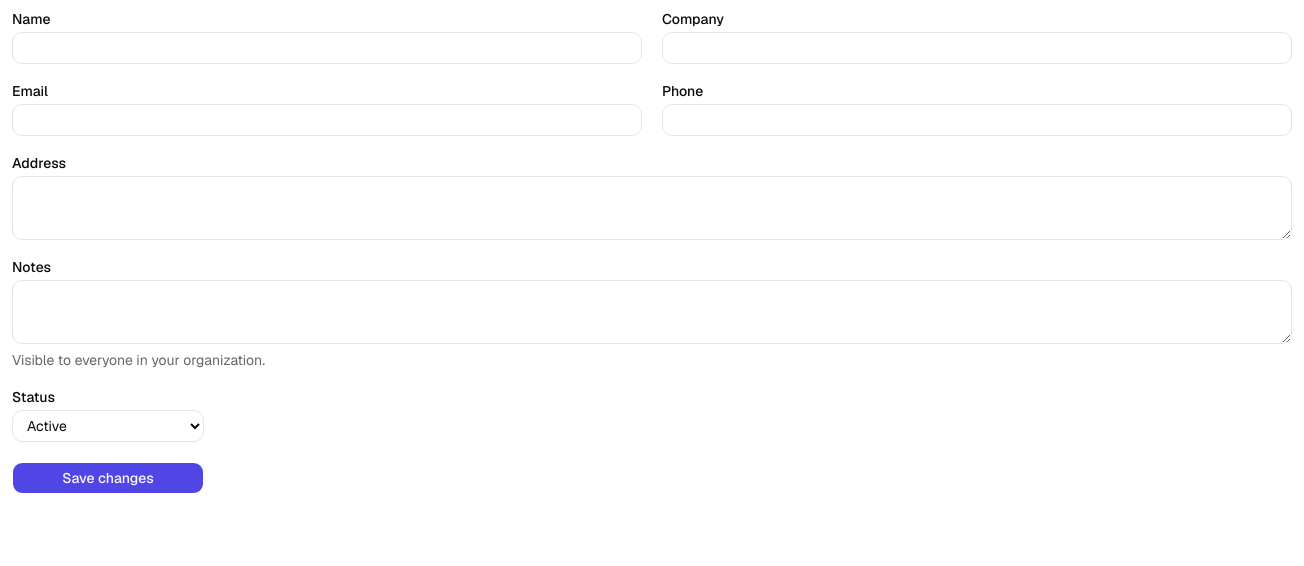
Scenario: ClientForm › shows other errors at the top of the form
The width and height of the screenshot is (1304, 566).
Click the button "Save changes" at (108, 478), box [12, 462, 204, 494]
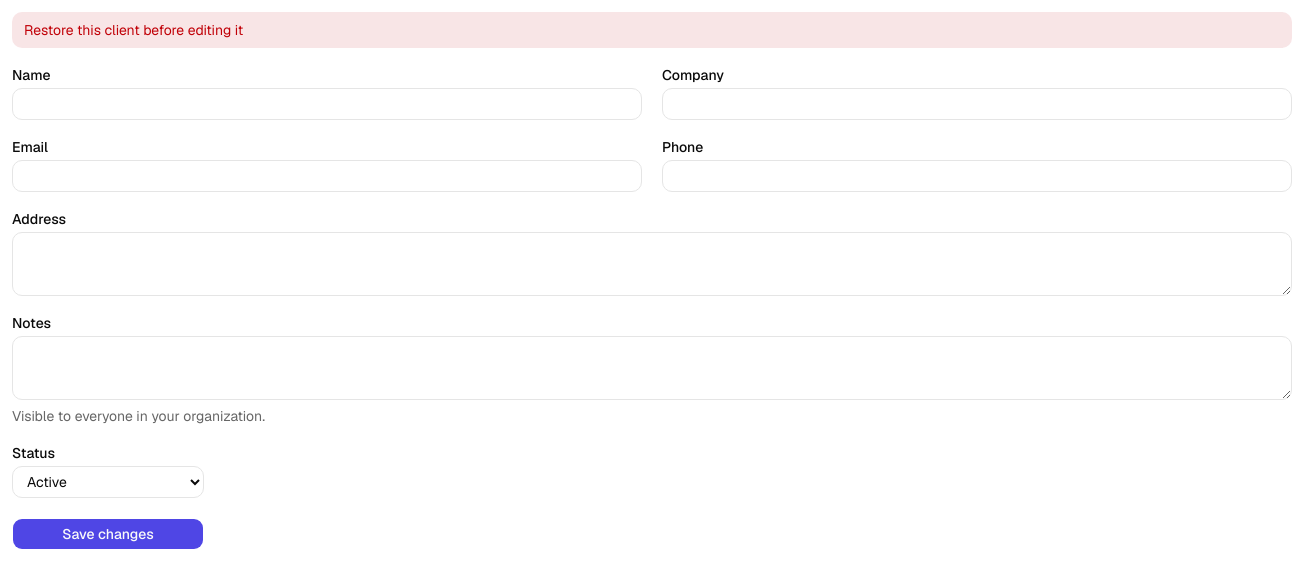
Expected: the message reads "Restore this client before editing it", [24, 21, 243, 39]
